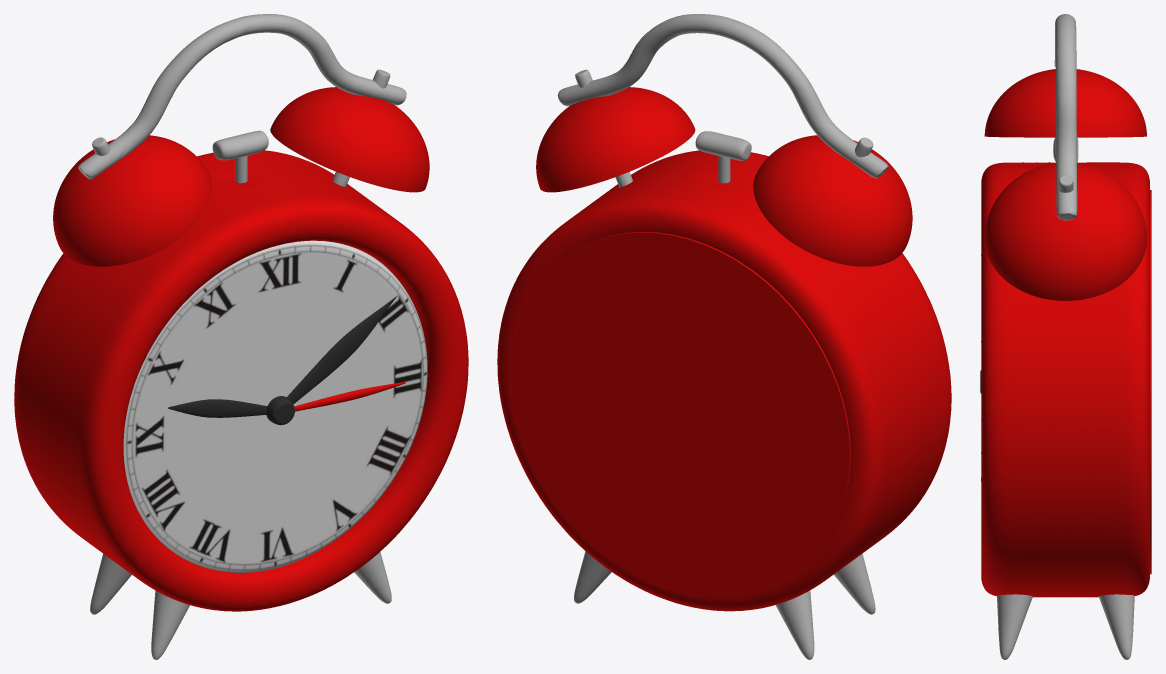
File: pvtreminder.glb
3 renders of one model, left to right at view 1: azimuth 30°, elevation 25°; view 2: azimuth 150°, elevation 25°; view 3: azimuth 270°, elevation 25°, orthographic.
Parts seen in each view (by area): view 1: Object_5, Object_4, Object_2, Object_3; view 2: Object_5, Object_4; view 3: Object_4, Object_5.
Boxes of the visible parts, x1,y1,x2,y2 form: Object_5: (14, 72, 465, 659); Object_4: (23, 14, 468, 601); Object_2: (123, 240, 427, 572); Object_3: (161, 298, 385, 527); Object_5: (498, 73, 951, 659); Object_4: (497, 14, 946, 610); Object_4: (981, 14, 1149, 597); Object_5: (980, 137, 1151, 659).
Size of the model in its own units: 0.9963 by 1.47 by 0.3927.
